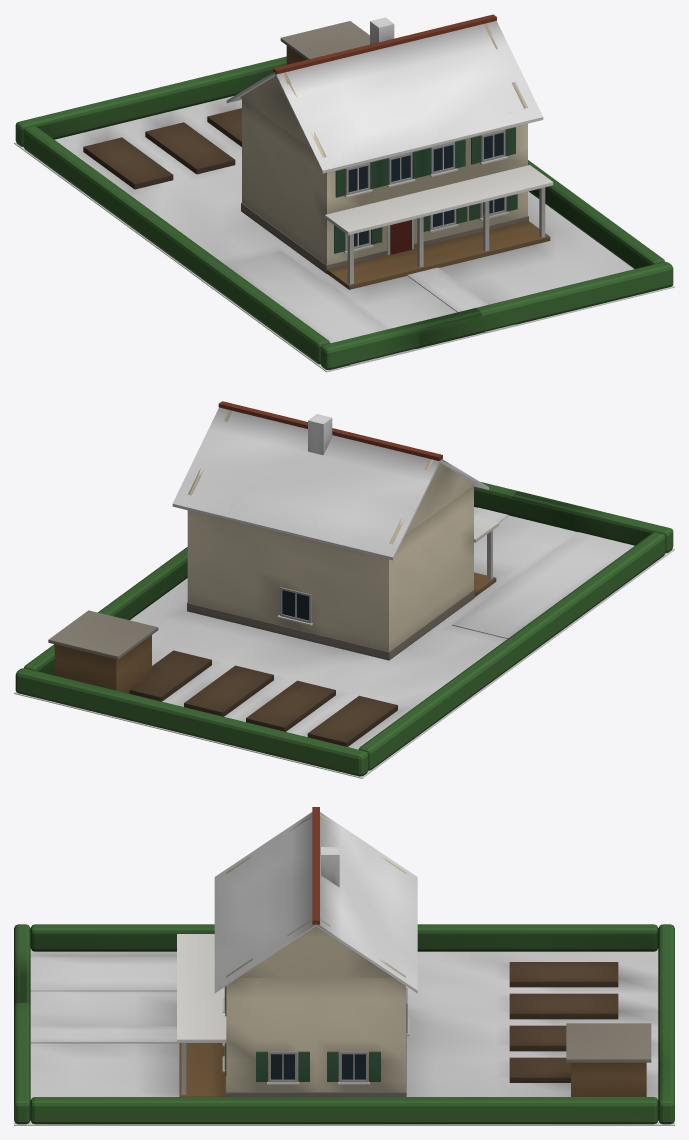
File: dos-aguas-DVtkPB-4.glb
3 renders of one model, top to bottom at view 1: azimuth 30°, elevation 25°; view 2: azimuth 150°, elevation 25°; view 3: azimuth 270°, elevation 25°, orthographic. The views are drawn at different scales.
Parts seen in each view (by area): view 1: pasto, techo, pieza.008, pieza.003, pieza.002, pieza.001, pieza.005, pieza.014, pieza.009, pieza.004, pieza, pieza.017 (+9 smaller); view 2: pieza.008, pasto, techo, pieza.002, pieza.003, pieza.005, pieza.020, pieza.021, pieza, pieza.004, pieza.007, pieza.016 (+8 smaller); view 3: pasto, techo, pieza.004, pieza.008, pieza.003, pieza.005, pieza.014, mojinete.001, pieza.021, pieza.002, pieza.017, pieza.016 (+12 smaller).
Boxes of the visible parts, x1,y1,x2,y2 form: pasto: [14, 96, 674, 372]; techo: [226, 21, 543, 173]; pieza.008: [242, 99, 527, 264]; pieza.003: [23, 126, 329, 364]; pieza.002: [15, 56, 286, 146]; pieza.001: [418, 262, 673, 346]; pieza.005: [225, 251, 415, 365]; pieza.014: [325, 165, 553, 235]; pieza.009: [327, 220, 550, 289]; pieza.004: [528, 160, 664, 268]; pieza: [320, 308, 481, 370]; pieza.017: [145, 122, 235, 174]; pieza.008: [187, 485, 473, 651]; pasto: [14, 507, 674, 778]; techo: [172, 407, 488, 560]; pieza.002: [15, 668, 368, 776]; pieza.003: [358, 532, 665, 770]; pieza.005: [452, 532, 634, 638]; pieza.020: [54, 635, 151, 693]; pieza.021: [48, 610, 158, 659]; pieza: [512, 491, 673, 553]; pieza.004: [24, 547, 187, 675]; pieza.007: [187, 589, 474, 660]; pieza.016: [307, 695, 397, 746]; pasto: [14, 948, 674, 1125]; techo: [214, 812, 417, 993]; pieza.004: [30, 1097, 658, 1124]; pieza.008: [226, 978, 405, 1092]; pieza.003: [30, 924, 658, 951]; pieza.005: [30, 956, 176, 991]; pieza.014: [177, 934, 226, 1042]; mojinete.001: [226, 919, 405, 977]; pieza.021: [566, 1023, 651, 1062]; pieza.002: [658, 924, 674, 1124]; pieza.017: [509, 993, 618, 1019]; pieza.016: [509, 962, 618, 987].
Bounding box in the file's own units: 18 × 9.4 × 28.
